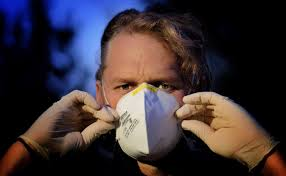with_mask: (107, 38, 192, 154)
